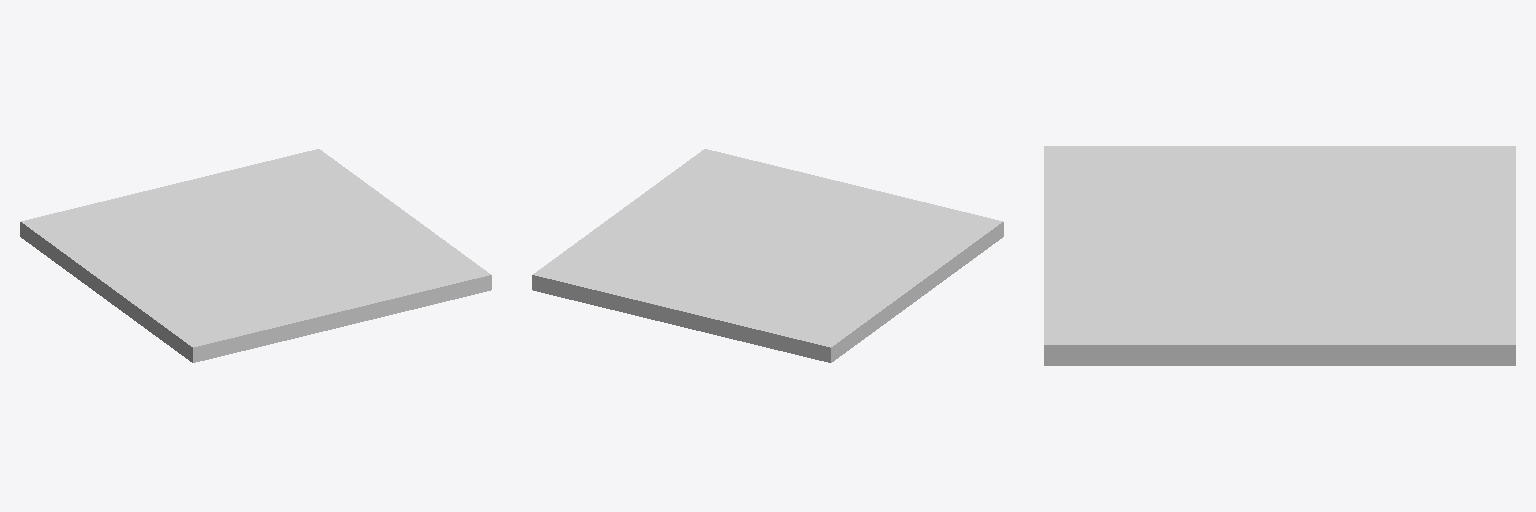
URDF robot description (plane_with_Tcube_marker):
<?xml version="1.0"?>
<robot name="plane_with_Tcube_marker">

<material name="red">
    <color rgba="1 0 0 1"/>
</material>

<link name="world"/>
<link name="plane">
    <visual>
        <geometry>
            <box size="200 200 10"/>
        </geometry>
        <material name="gray">
            <color rgba="0.9 0.9 0.9 1"/>
        </material>
    </visual>
    <collision>
        <geometry>
            <box size="200 200 10"/>
        </geometry>
    </collision>
    <inertial>
        <mass value="10000"/>
        <inertia ixx="1" ixy="0" ixz="0" iyy="1" iyz="0" izz="1"/>
    </inertial>
</link>

<!-- <link name="marker">
    <visual>
        <geometry>
            <box size="0.11 0.11 0.001"/>
        </geometry>
        <material name="red">
            <color rgba="1 0 0 1"/>
        </material>
    </visual>
    <inertial>
        <mass value="100"/>
        <inertia ixx="0.00035" ixy="0" ixz="0" iyy="0.00035" iyz="0" izz="0.00035"/>
    </inertial>
</link> -->


<joint name="plane_joint" type="fixed">
    <parent link="world"/>
    <child link="plane"/>
    <origin xyz="0 0.0 -5.0" rpy="0 0 0"/>
</joint>

<!-- <joint name="marker_joint" type="floating">
    <parent link="world"/>
    <child link="marker"/>
    <origin xyz="0.5 0.5 0.04" rpy="0 0 0"/>
    <limit lower="-3.1415926" upper="3.1415926"/> 
</joint> -->
<link name="cubeHL">
    <visual>
        <geometry>
            <box size="0.06 0.1 0.001"/>
        </geometry>
        <material name="red"/>
    </visual>
    <inertial>
        <mass value="0.2"/>
        <inertia ixx="0.00035" ixy="0" ixz="0" iyy="0.00035" iyz="0" izz="0.00035"/>
    </inertial>
</link>

<link name="cubeHR">
    <visual>
        <geometry>
            <box size="0.06 0.1 0.001"/>
        </geometry>
        <material name="red"/>
    </visual>
    <inertial>
        <mass value="0.2"/>
        <inertia ixx="0.00035" ixy="0" ixz="0" iyy="0.00035" iyz="0" izz="0.00035"/>
    </inertial>
</link>

<link name="cubeV1">
    <visual>
        <geometry>
            <box size="0.1 0.06 0.001"/>
        </geometry>
        <material name="red"/>
    </visual>
    <inertial>
        <mass value="0.2"/>
        <inertia ixx="0.00035" ixy="0" ixz="0" iyy="0.00035" iyz="0" izz="0.00035"/>
    </inertial>
</link>

<link name="cubeV2">
    <visual>
        <geometry>
            <box size="0.1 0.06 0.001"/>
        </geometry>
        <material name="red"/>
    </visual>
    <inertial>
        <mass value="0.2"/>
        <inertia ixx="0.00035" ixy="0" ixz="0" iyy="0.00035" iyz="0" izz="0.00035"/>
    </inertial>
</link>

<link name="marker"/>

<joint name="marker_joint" type="floating">
    <parent link="world"/>
    <child link="marker"/>
    <origin xyz="0 0 0.1" rpy="0 0 0"/>
</joint>

<joint name="Horizontal_joint_left" type="fixed">
    <parent link="marker"/>
    <child link="cubeHL"/>
    <origin xyz="0 -0.05 0" rpy="0 0 0"/>
</joint>

<joint name="Horizontal_joint_right" type="fixed">
    <parent link="marker"/>
    <child link="cubeHR"/>
    <origin xyz="0 0.05 0" rpy="0 0 0"/>
</joint>

<joint name="Horizontal_joint_bottom1" type="fixed">
    <parent link="marker"/>
    <child link="cubeV1"/>
    <origin xyz="0.08 0 0" rpy="0 0 0"/>
</joint>

<joint name="Horizontal_joint_bottom2" type="fixed">
    <parent link="cubeV1"/>
    <child link="cubeV2"/>
    <origin xyz="0.1 0 0" rpy="0 0 0"/>
</joint>

</robot>

--- Render facts (derived) ---
The picture shows the robot from 3 angles, left to right: view 1: azimuth 30°, elevation 25°; view 2: azimuth 150°, elevation 25°; view 3: azimuth 270°, elevation 25°; orthographic projection.
Robot: plane_with_Tcube_marker — 7 links, 6 joints (5 fixed, 1 floating); root link world; default pose: every joint at zero.
Links seen in each view (by area): view 1: plane; view 2: plane; view 3: plane.
Link boxes in pixels (x1,y1,x2,y2): plane: [20, 149, 491, 362]; plane: [532, 149, 1003, 362]; plane: [1044, 146, 1515, 365].
Size in the robot's own frame: 200 by 200 by 10.1 metres.
Geometry: primitives only (box / cylinder / sphere), no mesh files.
